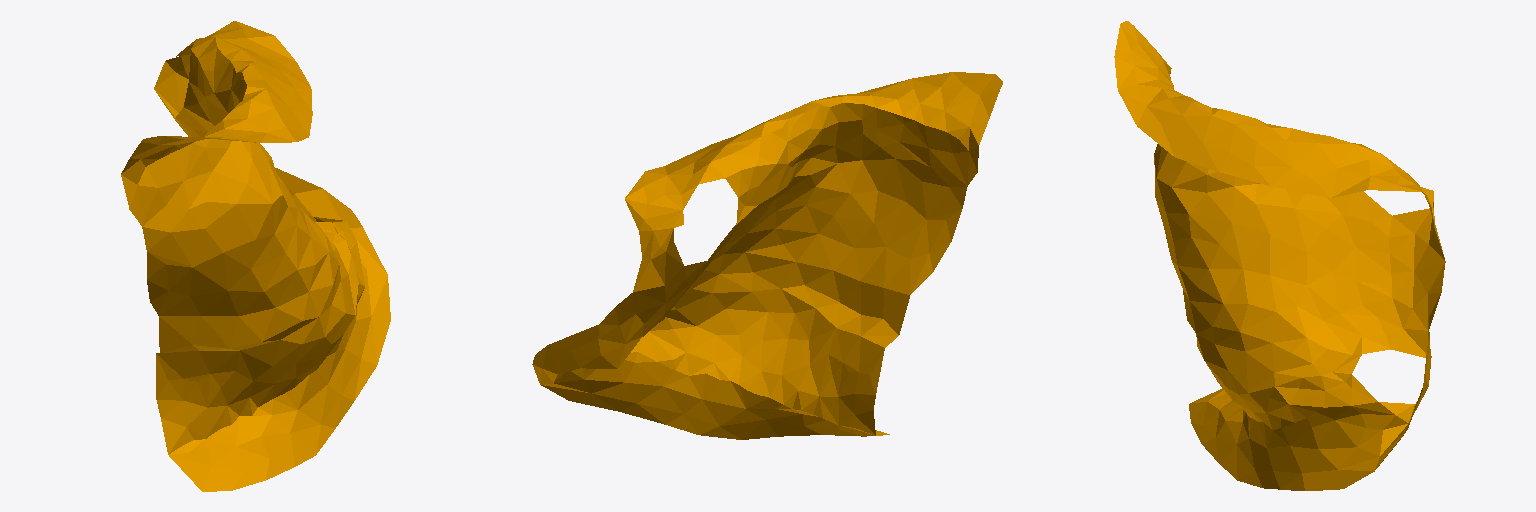
URDF robot description (init):
<?xml version='1.0' encoding='utf-8'?>
<robot name="init">
<link name="link_0"><inertial><mass value="1.0" /><origin rpy="0 0 0" xyz="0.000000 0.000000 0.000000" /><inertia ixx="1.0" ixy="0.0" ixz="0.0" iyy="1.0" iyz="0.0" izz="1.0" /></inertial><visual><origin rpy="0 0 0" xyz="0.000000 0.000000 0.000000" /><geometry><mesh filename="./clothHuman/cloth/1982.obj" /></geometry></visual><collision><origin rpy="0 0 0" xyz="0.000000 0.000000 0.000000" /><geometry><mesh filename="./clothHuman/cloth/1982.obj" /></geometry></collision></link></robot>

--- Facts derived from the render (not from the file) ---
The picture shows the robot from 3 angles, left to right: view 1: azimuth 30°, elevation 25°; view 2: azimuth 150°, elevation 25°; view 3: azimuth 270°, elevation 25°; orthographic projection.
Model init with 1 links and 0 joints (none), rooted at link_0, posed all joints at 0.
Visible links, largest first — view 1: link_0; view 2: link_0; view 3: link_0.
Boxes of the visible links, bbox=[...] form: link_0: bbox=[121, 21, 390, 491]; link_0: bbox=[532, 72, 1002, 439]; link_0: bbox=[1114, 21, 1445, 490].
Size in the robot's own frame: 3.44 by 2.97 by 3.6 metres.
Meshes: 1 distinct files referenced, 1 mesh visuals loaded (1 OBJ).